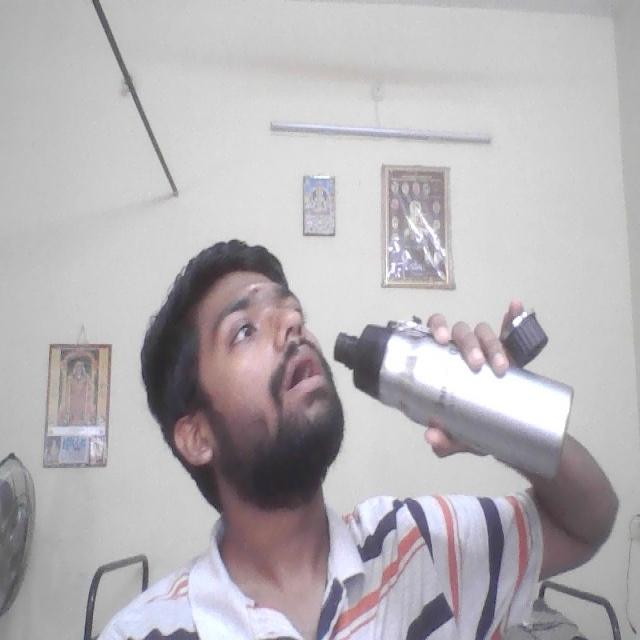Drinking: (329, 301, 585, 484)
